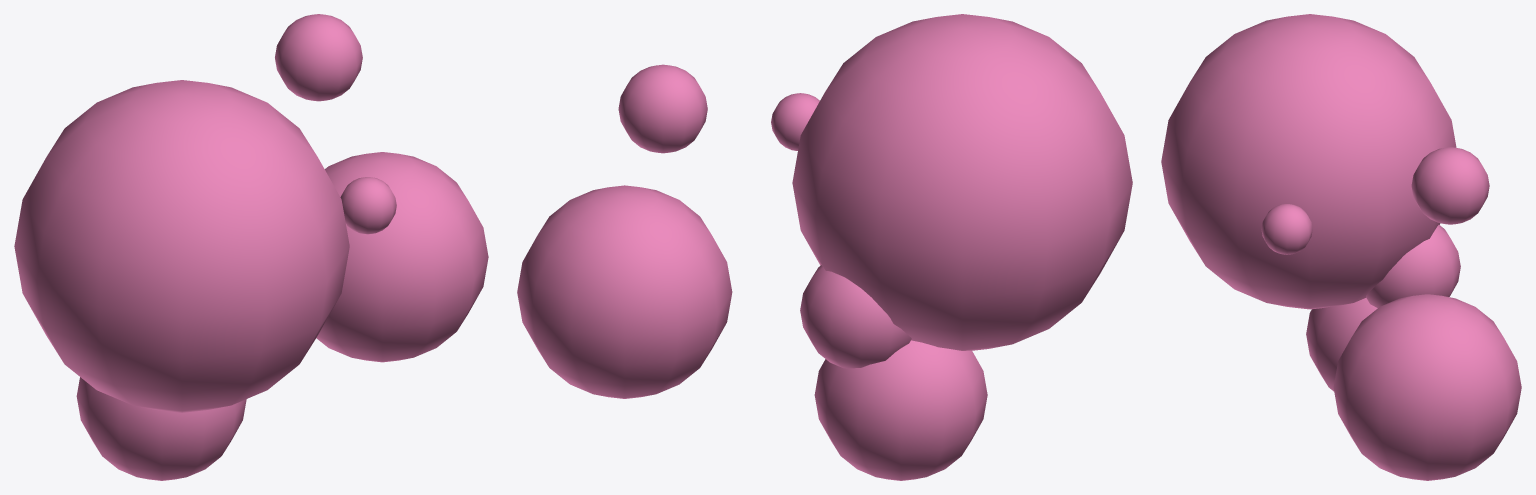
The model's file is asset.glb.
3 renders of one model, left to right at view 1: azimuth 30°, elevation 25°; view 2: azimuth 150°, elevation 25°; view 3: azimuth 270°, elevation 25°, orthographic. The views are drawn at different scales.
Parts seen in each view (by area): view 1: Sphere.001, Sphere, Sphere.005, Sphere.004, Sphere.002; view 2: Sphere.001, Sphere, Sphere.005, Sphere.003, Sphere.004, Sphere.002; view 3: Sphere.001, Sphere, Sphere.004, Sphere.003, Sphere.005, Sphere.002.
Part boxes in pixels (x1=…): Sphere.001: x1=14, y1=80, x2=349, y2=412; Sphere: x1=316, y1=152, x2=488, y2=362; Sphere.005: x1=76, y1=377, x2=246, y2=480; Sphere.004: x1=275, y1=14, x2=362, y2=101; Sphere.002: x1=340, y1=177, x2=396, y2=234; Sphere.001: x1=792, y1=14, x2=1132, y2=350; Sphere: x1=517, y1=185, x2=732, y2=398; Sphere.005: x1=814, y1=340, x2=987, y2=480; Sphere.003: x1=800, y1=265, x2=911, y2=368; Sphere.004: x1=618, y1=64, x2=707, y2=153; Sphere.002: x1=771, y1=93, x2=819, y2=150; Sphere.001: x1=1161, y1=14, x2=1456, y2=309; Sphere: x1=1333, y1=294, x2=1521, y2=480; Sphere.004: x1=1411, y1=147, x2=1489, y2=224; Sphere.003: x1=1366, y1=225, x2=1460, y2=307; Sphere.005: x1=1306, y1=298, x2=1377, y2=391; Sphere.002: x1=1261, y1=204, x2=1312, y2=254.
Bounding box in the file's own units: 13.21 × 10.36 × 9.22.
